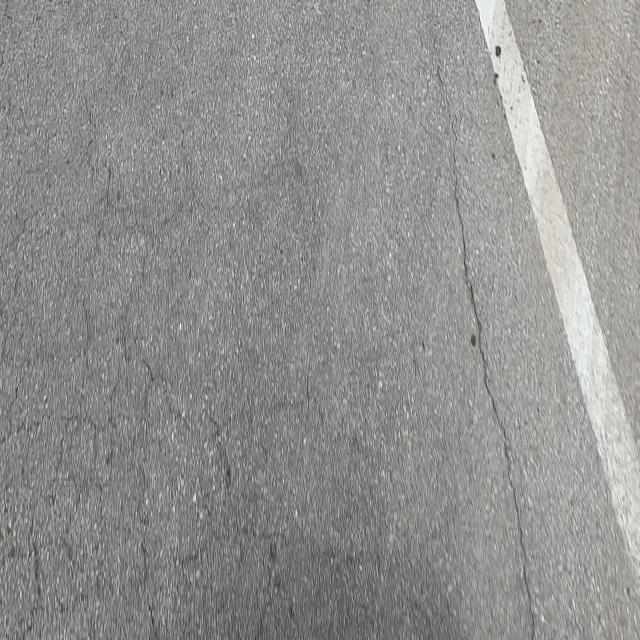Retak-Buaya: (1, 310, 280, 640)
Retak-Memanjang: (453, 134, 538, 639)
